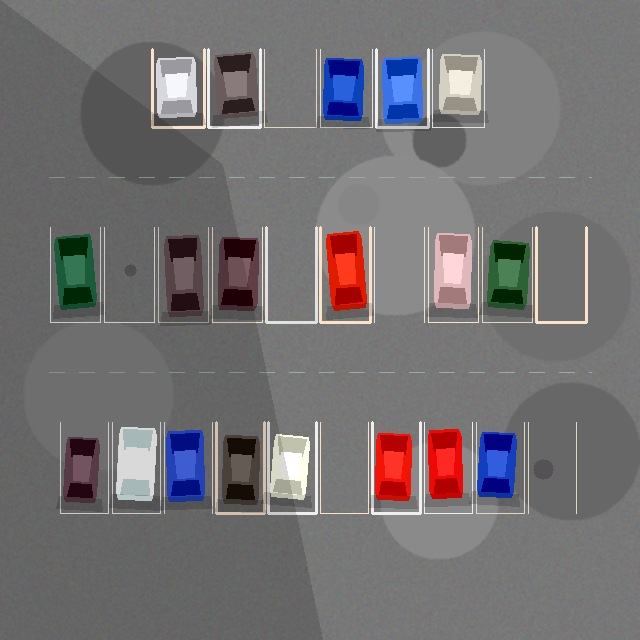space-empty: (104, 227, 154, 322), (266, 227, 316, 322), (374, 227, 424, 322), (536, 227, 586, 322), (320, 422, 368, 513), (528, 422, 576, 513), (264, 49, 316, 127)
space-occupied: (50, 227, 100, 322), (158, 227, 208, 322), (212, 227, 262, 322), (320, 227, 370, 322), (428, 227, 478, 322), (482, 227, 532, 322), (60, 422, 108, 513), (112, 422, 160, 513), (164, 422, 212, 513), (216, 422, 264, 513), (268, 422, 316, 513), (372, 422, 420, 513), (424, 422, 472, 513), (476, 422, 524, 513), (152, 49, 204, 127), (208, 49, 260, 127), (320, 49, 372, 127), (376, 49, 428, 127), (432, 49, 484, 127)
